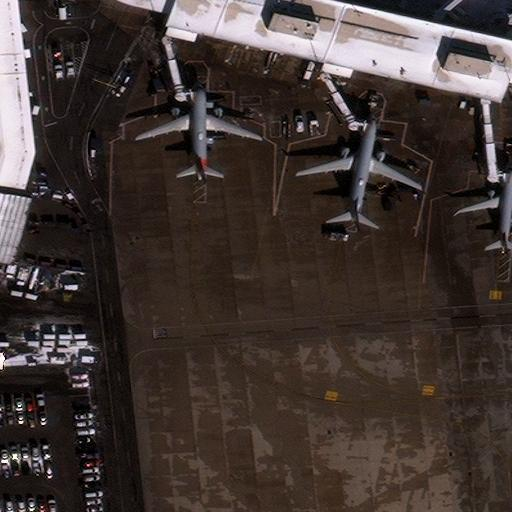Medium Civil Transport: (298, 114, 419, 226), (138, 82, 258, 179), (460, 171, 512, 248)
